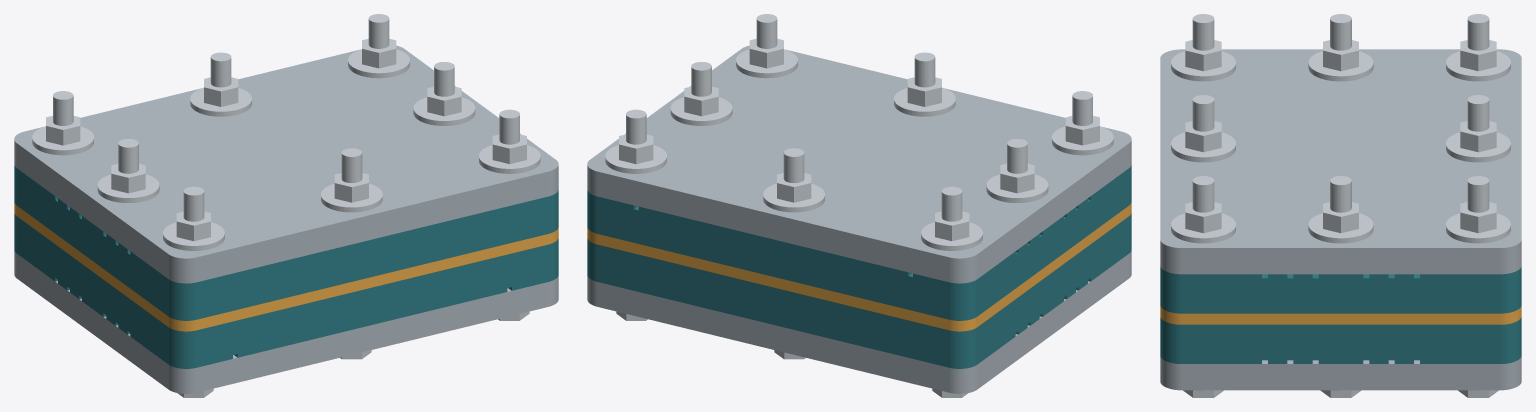
File: forma.glb
3 renders of one model, left to right at view 1: azimuth 30°, elevation 25°; view 2: azimuth 150°, elevation 25°; view 3: azimuth 270°, elevation 25°, orthographic. The views are drawn at different scales.
Visible parts, largest first — view 1: 08 Upper STEEL backer / 8 mm / BUY, 07 Upper PETG drain face / mirrored / PRINT, 02 Lower PETG drain face / 12 mm / PRINT, 01 Lower STEEL backer / 8 mm / BUY, 03 Spacer / 3.4 mm / 3 mm nominal pulp / PRINT, M6 washer 04 upper / OD18, M6 washer 05 upper / OD18, M6 washer 02 upper / OD18, M6 washer 08 upper / OD18, M6 washer 07 upper / OD18, M6 washer 06 upper / OD18, M6 washer 01 upper / OD18 (+17 smaller); view 2: 08 Upper STEEL backer / 8 mm / BUY, 07 Upper PETG drain face / mirrored / PRINT, 02 Lower PETG drain face / 12 mm / PRINT, 01 Lower STEEL backer / 8 mm / BUY, 03 Spacer / 3.4 mm / 3 mm nominal pulp / PRINT, M6 washer 04 upper / OD18, M6 washer 05 upper / OD18, M6 washer 07 upper / OD18, M6 washer 03 upper / OD18, M6 washer 02 upper / OD18, M6 washer 01 upper / OD18, M6 washer 06 upper / OD18 (+17 smaller); view 3: 08 Upper STEEL backer / 8 mm / BUY, 07 Upper PETG drain face / mirrored / PRINT, 02 Lower PETG drain face / 12 mm / PRINT, 01 Lower STEEL backer / 8 mm / BUY, 03 Spacer / 3.4 mm / 3 mm nominal pulp / PRINT, M6 washer 03 upper / OD18, M6 washer 08 upper / OD18, M6 washer 02 upper / OD18, M6 washer 07 upper / OD18, M6 washer 01 upper / OD18, M6 washer 06 upper / OD18, M6 washer 04 upper / OD18 (+17 smaller).
Part boxes in pixels (box(x1,y1,x2,y2)): 08 Upper STEEL backer / 8 mm / BUY: box(14, 45, 558, 283); 07 Upper PETG drain face / mirrored / PRINT: box(14, 165, 558, 320); 02 Lower PETG drain face / 12 mm / PRINT: box(14, 213, 558, 368); 01 Lower STEEL backer / 8 mm / BUY: box(14, 250, 558, 393); 03 Spacer / 3.4 mm / 3 mm nominal pulp / PRINT: box(14, 202, 558, 331); M6 washer 04 upper / OD18: box(97, 174, 159, 202); M6 washer 05 upper / OD18: box(413, 97, 475, 125); M6 washer 02 upper / OD18: box(321, 183, 382, 212); M6 washer 08 upper / OD18: box(348, 49, 409, 78); M6 washer 07 upper / OD18: box(190, 88, 251, 116); M6 washer 06 upper / OD18: box(32, 126, 93, 155); M6 washer 01 upper / OD18: box(163, 222, 224, 250); 08 Upper STEEL backer / 8 mm / BUY: box(587, 45, 1131, 283); 07 Upper PETG drain face / mirrored / PRINT: box(587, 165, 1131, 320); 02 Lower PETG drain face / 12 mm / PRINT: box(587, 213, 1131, 368); 01 Lower STEEL backer / 8 mm / BUY: box(587, 250, 1131, 393); 03 Spacer / 3.4 mm / 3 mm nominal pulp / PRINT: box(587, 202, 1131, 331); M6 washer 04 upper / OD18: box(986, 174, 1048, 202); M6 washer 05 upper / OD18: box(670, 97, 732, 125); M6 washer 07 upper / OD18: box(763, 183, 824, 212); M6 washer 03 upper / OD18: box(736, 49, 797, 78); M6 washer 02 upper / OD18: box(894, 88, 955, 116); M6 washer 01 upper / OD18: box(1052, 126, 1113, 155); M6 washer 06 upper / OD18: box(921, 222, 982, 250); 08 Upper STEEL backer / 8 mm / BUY: box(1160, 49, 1521, 274); 07 Upper PETG drain face / mirrored / PRINT: box(1160, 267, 1521, 313); 02 Lower PETG drain face / 12 mm / PRINT: box(1160, 317, 1521, 363); 01 Lower STEEL backer / 8 mm / BUY: box(1160, 357, 1521, 390); 03 Spacer / 3.4 mm / 3 mm nominal pulp / PRINT: box(1160, 306, 1521, 324); M6 washer 03 upper / OD18: box(1171, 213, 1235, 243); M6 washer 08 upper / OD18: box(1446, 213, 1510, 243); M6 washer 02 upper / OD18: box(1171, 132, 1235, 162); M6 washer 07 upper / OD18: box(1446, 132, 1510, 162); M6 washer 01 upper / OD18: box(1171, 51, 1235, 81); M6 washer 06 upper / OD18: box(1446, 51, 1510, 81); M6 washer 04 upper / OD18: box(1308, 51, 1373, 81).
Bounding box in the file's own units: 0.13 × 0.064 × 0.1.
